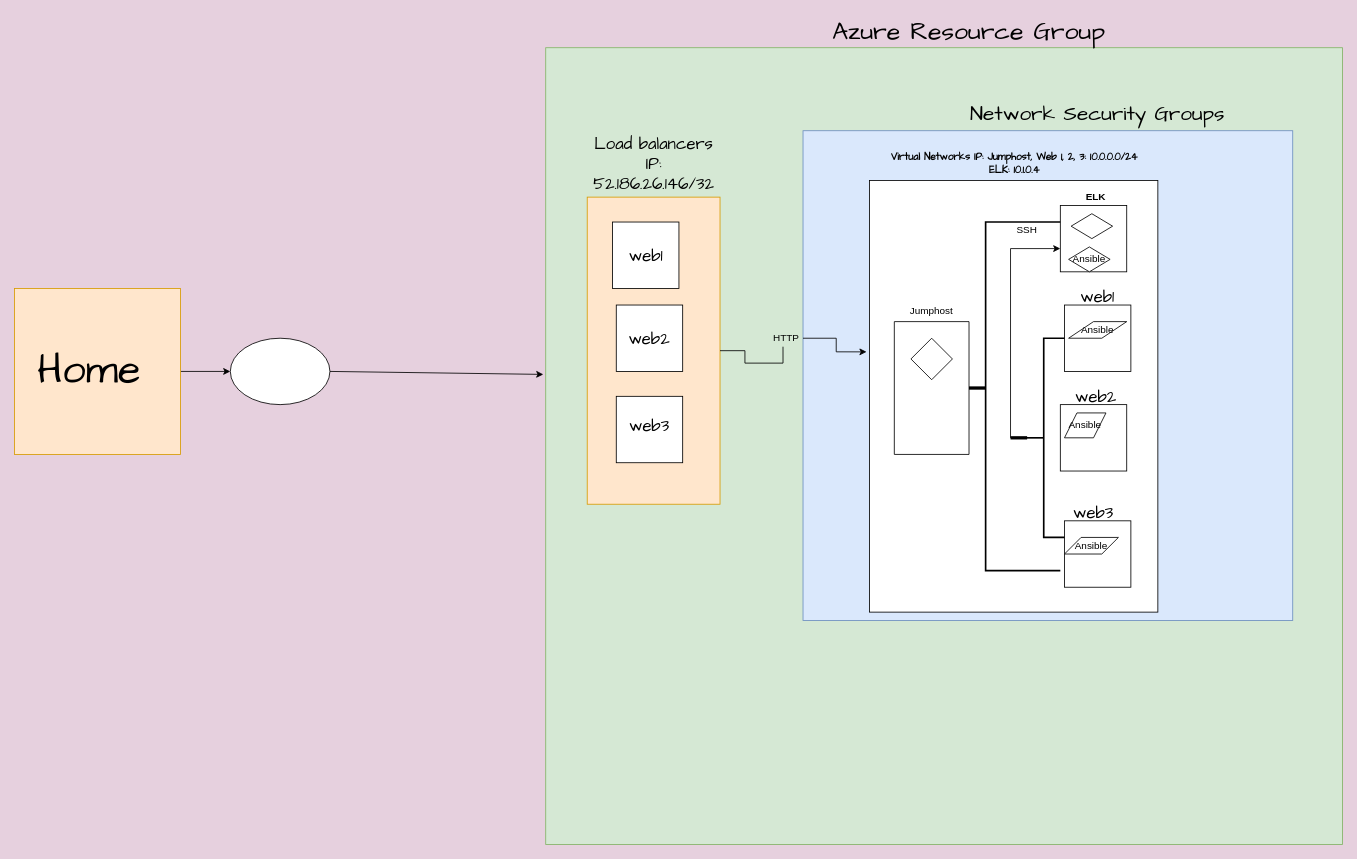
This 1357x859 diagram has some shape labels left out. Each missing label, with the centre of its shape:
"Docker" belongs at (931,358).
"Internet" belongs at (279,371).
"Kibana" belongs at (1091,226).
